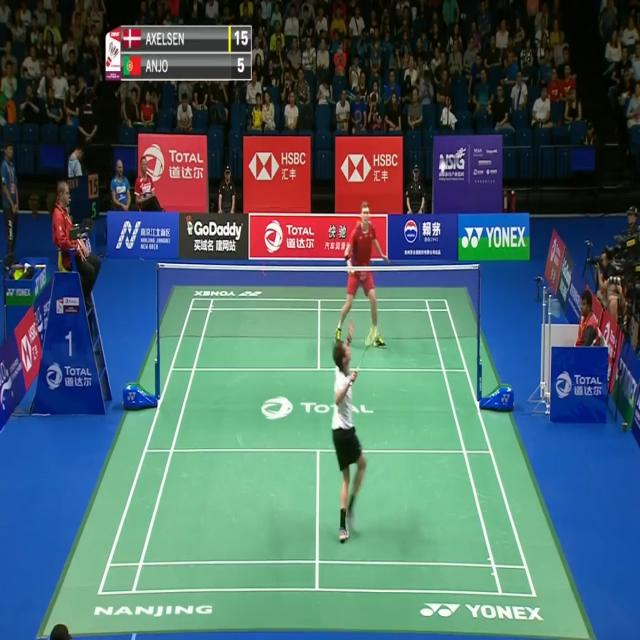Player1: (328, 315, 388, 545)
Player2: (332, 201, 391, 353)
